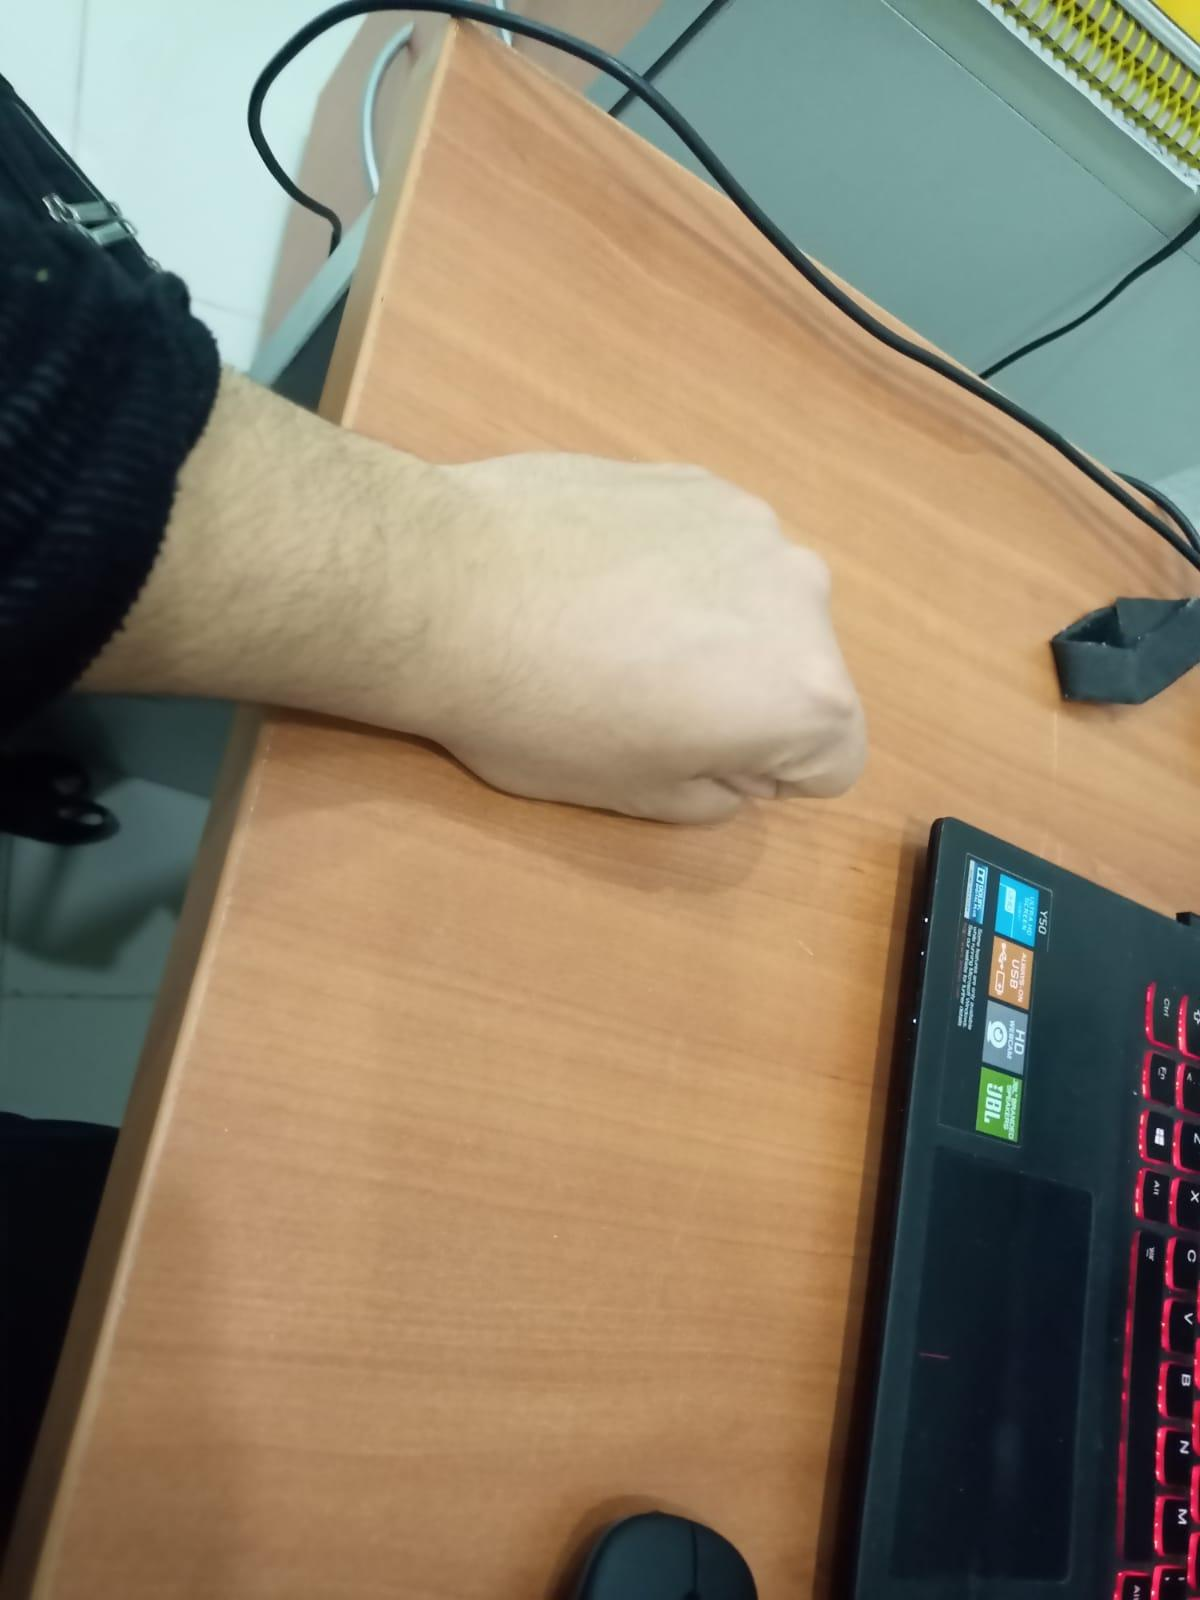Stone: (402, 388, 892, 888)
